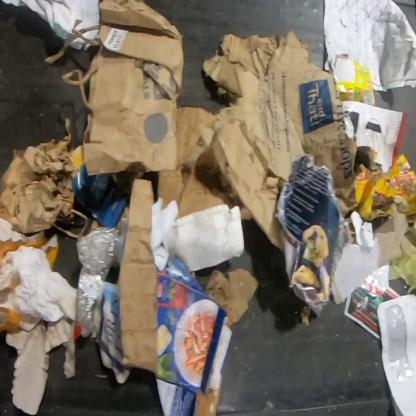cardboard: (274, 155, 350, 327), (154, 256, 234, 416), (98, 178, 158, 384), (0, 115, 90, 240), (157, 104, 253, 221), (331, 204, 414, 306), (4, 316, 77, 416), (166, 204, 246, 274), (353, 146, 416, 224), (332, 54, 376, 107)
soft_plastic: (74, 217, 129, 339), (350, 210, 375, 249), (364, 264, 390, 294)
